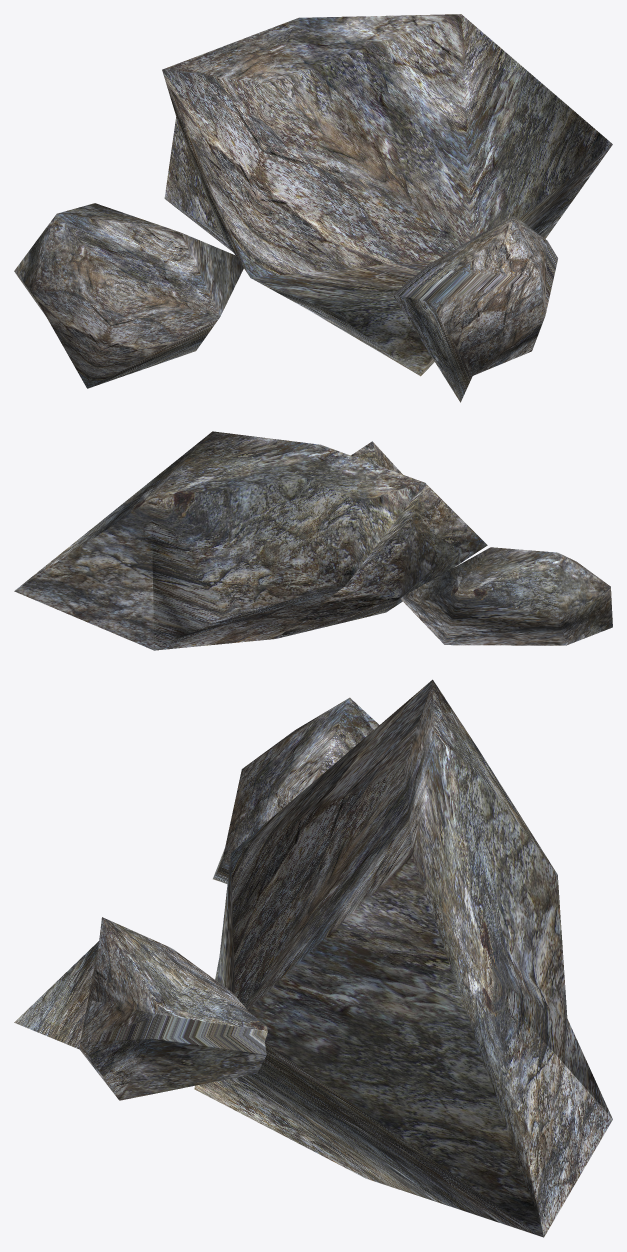
Rendered from rocks.fbx.
The picture shows the model from 3 angles, top to bottom: view 1: azimuth 30°, elevation 25°; view 2: azimuth 150°, elevation 25°; view 3: azimuth 270°, elevation 25°; orthographic projection. The views are drawn at different scales.
Parts seen in each view (by area): view 1: rocks:pSolid3, rocks:pSolid1, rocks:pSolid2; view 2: rocks:pSolid3, rocks:pSolid1, rocks:pSolid2; view 3: rocks:pSolid3, rocks:pSolid2, rocks:pSolid1.
Boxes of the visible parts, bbox=[...] form: rocks:pSolid3: bbox=[162, 14, 612, 376]; rocks:pSolid1: bbox=[14, 203, 243, 388]; rocks:pSolid2: bbox=[392, 216, 557, 402]; rocks:pSolid3: bbox=[14, 431, 487, 650]; rocks:pSolid1: bbox=[400, 547, 612, 645]; rocks:pSolid2: bbox=[351, 441, 402, 474]; rocks:pSolid3: bbox=[194, 679, 612, 1237]; rocks:pSolid2: bbox=[14, 917, 267, 1100]; rocks:pSolid1: bbox=[213, 697, 379, 883].
Size of the model in its own units: 34.8 by 14 by 22.35.
Materials: 1 (1 with a texture image).
